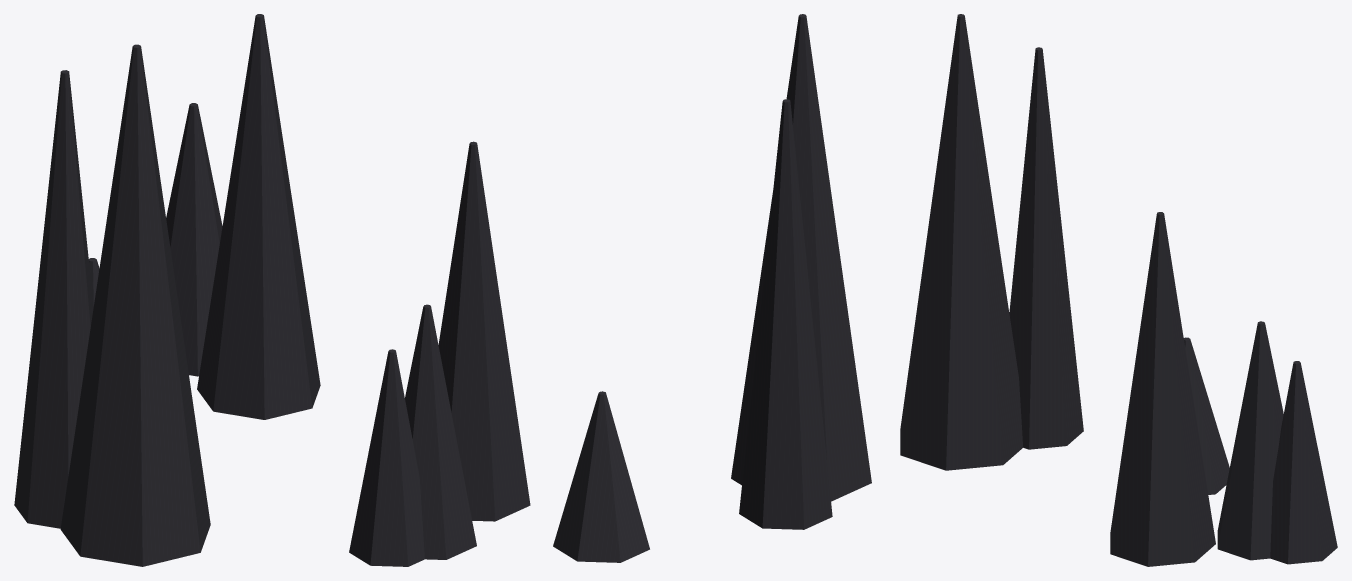
File: kit_cave_formation.glb
3 views of the same model, side by side, from view 1: azimuth 30°, elevation 25°; view 2: azimuth 150°, elevation 25°; view 3: azimuth 270°, elevation 25° (orthographic). The views are drawn at different scales.
Parts seen in each view (by area): view 1: cf_stalag3, cf_stalag1, cf_stalag5, cf_stalag4; view 2: cf_stalag5, cf_stalag1, cf_stalag3, cf_stalag2, cf_stalag4, cf_stalag0; view 3: cf_stalag3, cf_stalag1, cf_stalag5, cf_stalag4, cf_stalag2, cf_stalag0.
Part boxes in pixels (x1,y1,x2,y2): cf_stalag3: [60, 44, 210, 566]; cf_stalag1: [197, 14, 320, 419]; cf_stalag5: [14, 70, 93, 528]; cf_stalag4: [166, 103, 222, 376]; cf_stalag5: [739, 99, 832, 529]; cf_stalag1: [438, 141, 530, 521]; cf_stalag3: [731, 14, 871, 501]; cf_stalag2: [349, 349, 424, 566]; cf_stalag4: [405, 304, 476, 559]; cf_stalag0: [553, 391, 649, 562]; cf_stalag3: [900, 14, 1023, 470]; cf_stalag1: [1110, 212, 1215, 566]; cf_stalag5: [1009, 47, 1083, 449]; cf_stalag4: [1217, 321, 1283, 560]; cf_stalag2: [1270, 361, 1337, 564]; cf_stalag0: [1183, 337, 1229, 494].
Bounding box in the file's own units: 2.92 × 3.78 × 3.5.
1 material, 1 textured.
